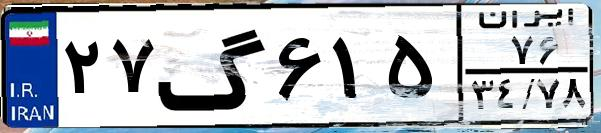1: (330, 28, 385, 110)
2: (57, 26, 110, 100)
3: (470, 70, 495, 125)
4: (495, 70, 520, 125)
5: (385, 28, 445, 110)
6: (270, 28, 330, 110), (537, 27, 568, 80)
7: (110, 28, 156, 98), (508, 27, 537, 80), (535, 70, 560, 125)
8: (560, 70, 590, 125)
گ: (156, 12, 270, 120)
